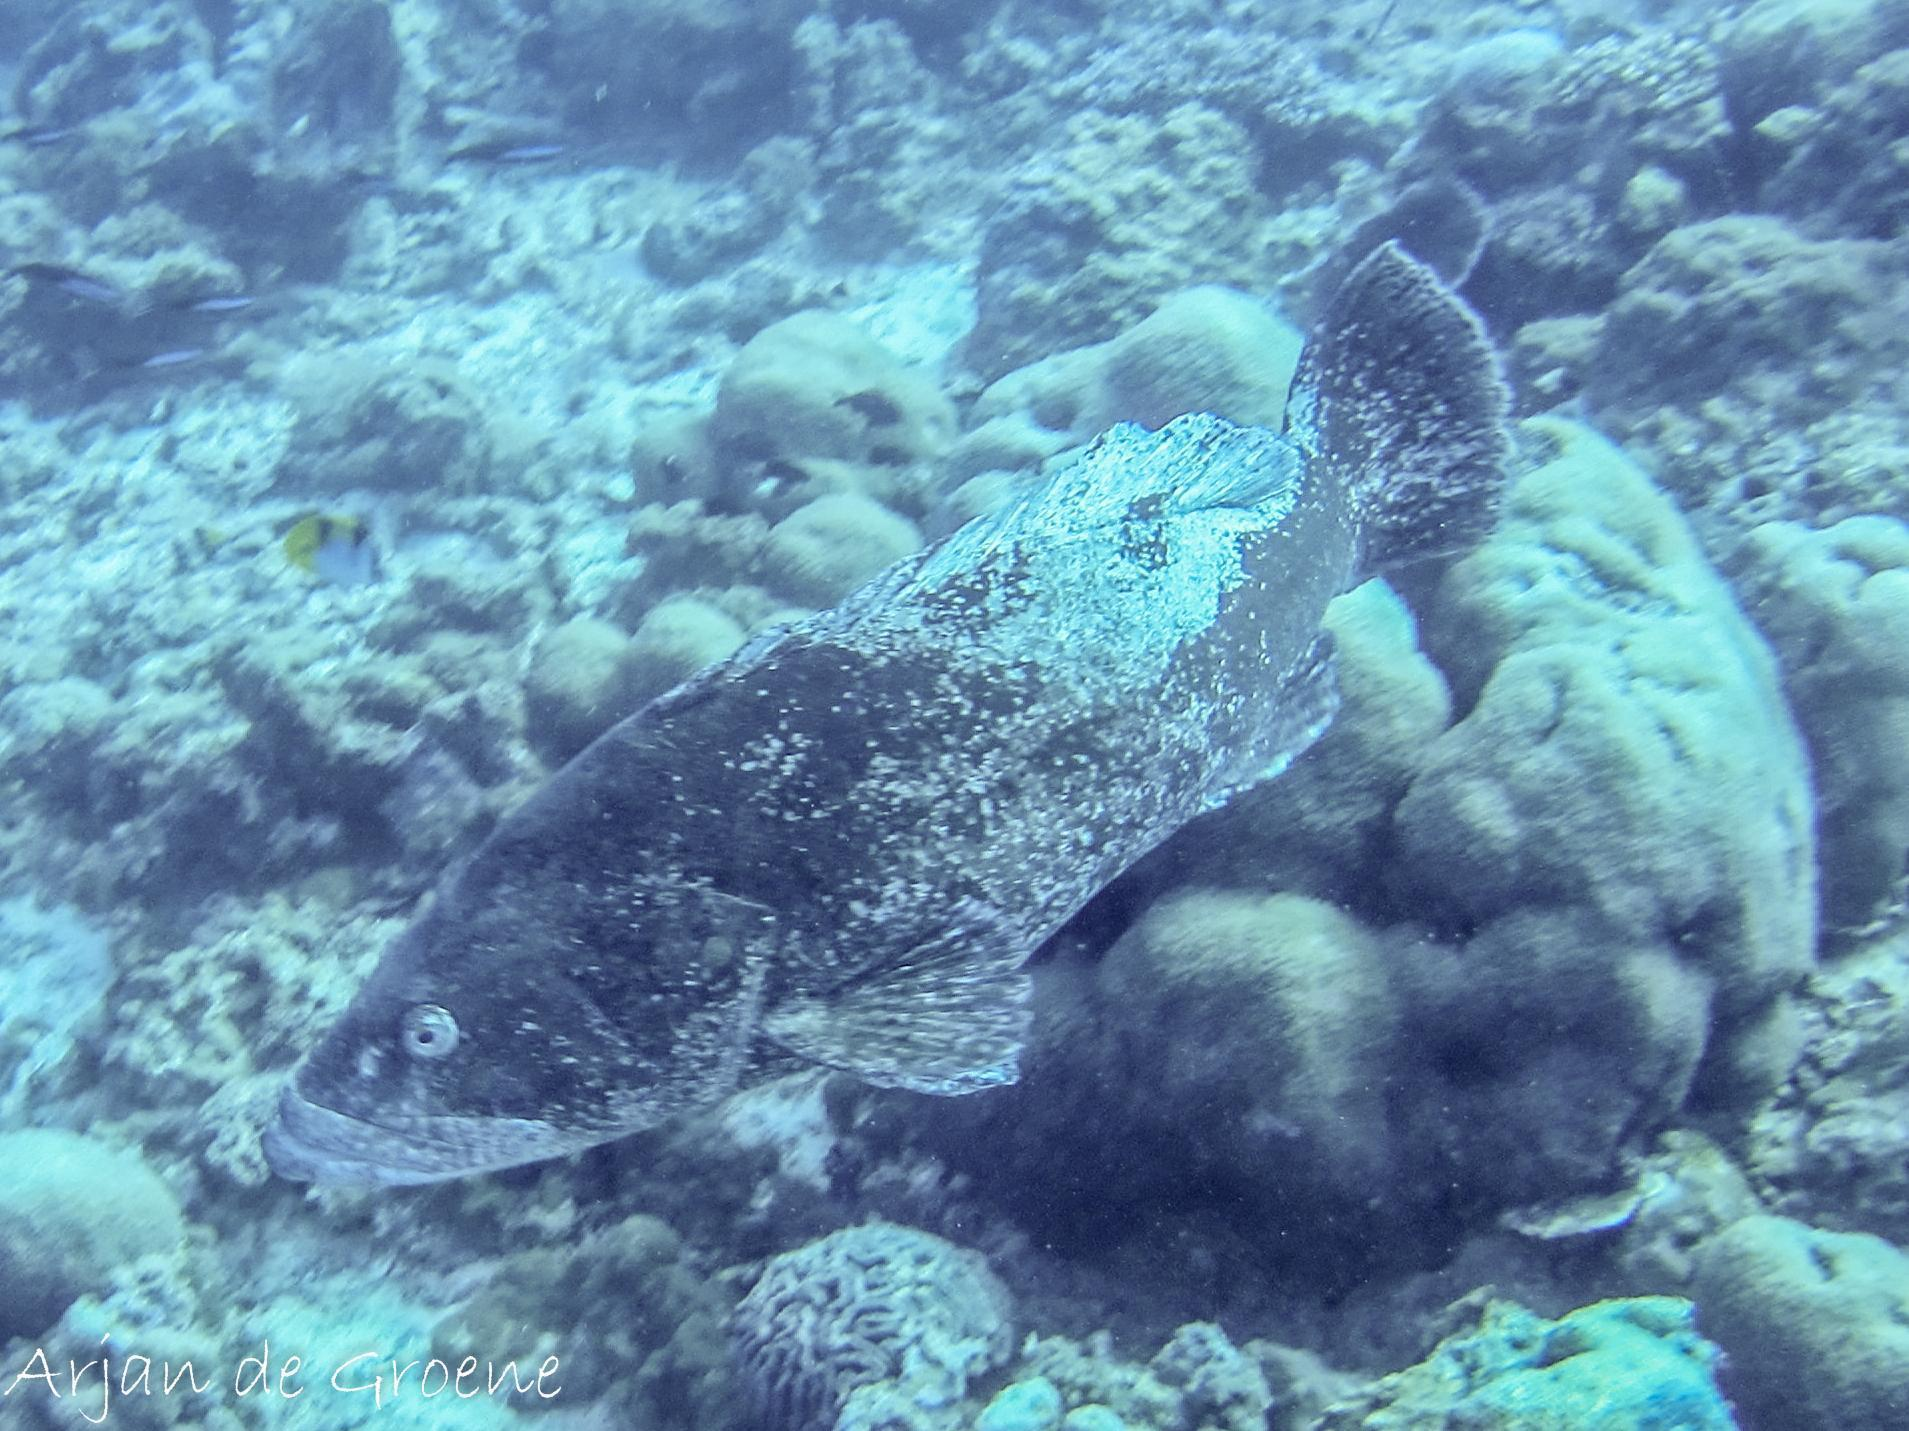Fish: (248, 224, 1590, 1215)
